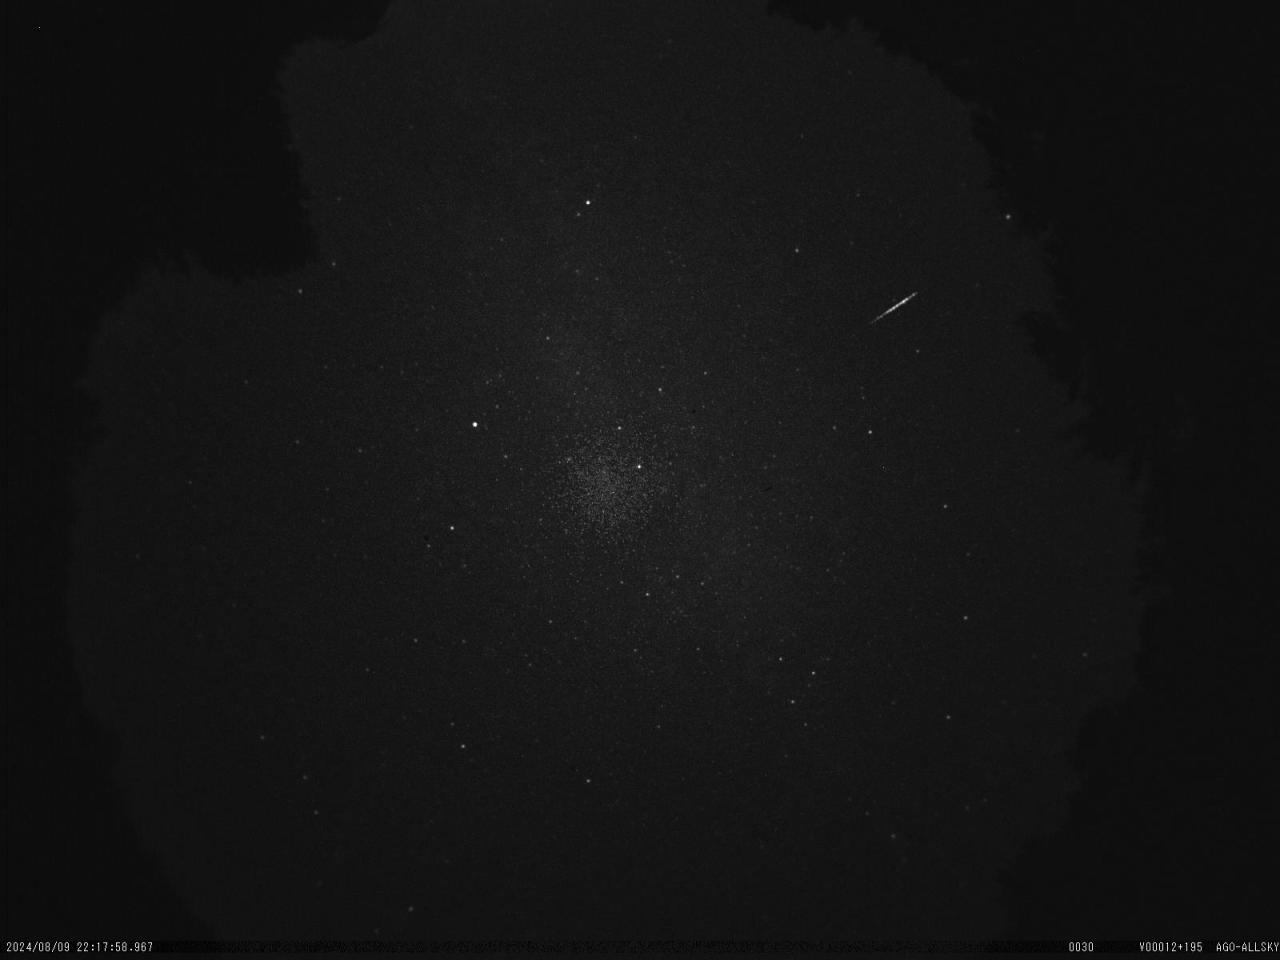Meteor: (869, 287, 921, 323)
